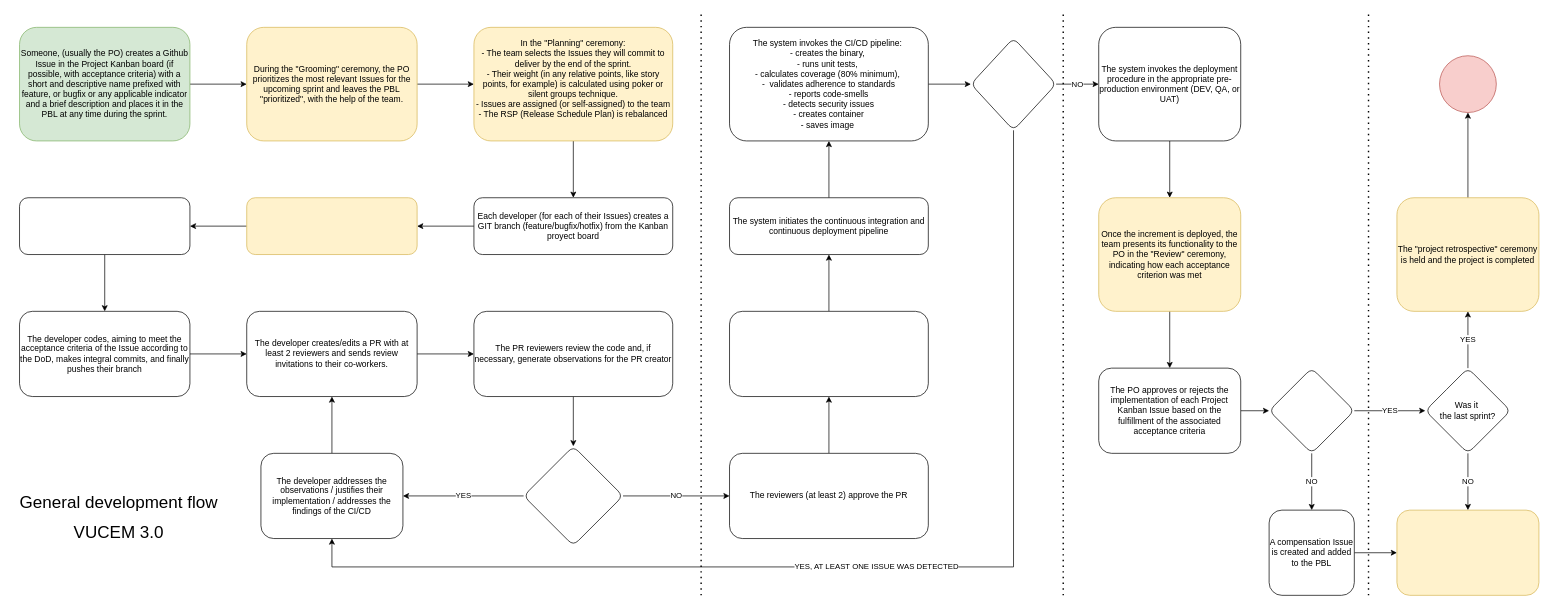
This 1551x608 diagram has some shape labels left out. Each missing label, with the centre of its shape:
Did the system detect any issues?: (1013,83)
END: (1467,84)
Is everything okay?: (1311,410)
The "Retrospective" ceremony is held and the new Sprint begins: (1467,552)
THE DAILY STANDUP MEETING CEREMONY IS HELD EVERY DAY AND IS LED BY THE SM: (331,226)
The developer clones the branch created in Github in his local machine: (104,226)
The developer merges his/her code into the "develop" branch: (828,354)
Were there any observations?: (573,496)
